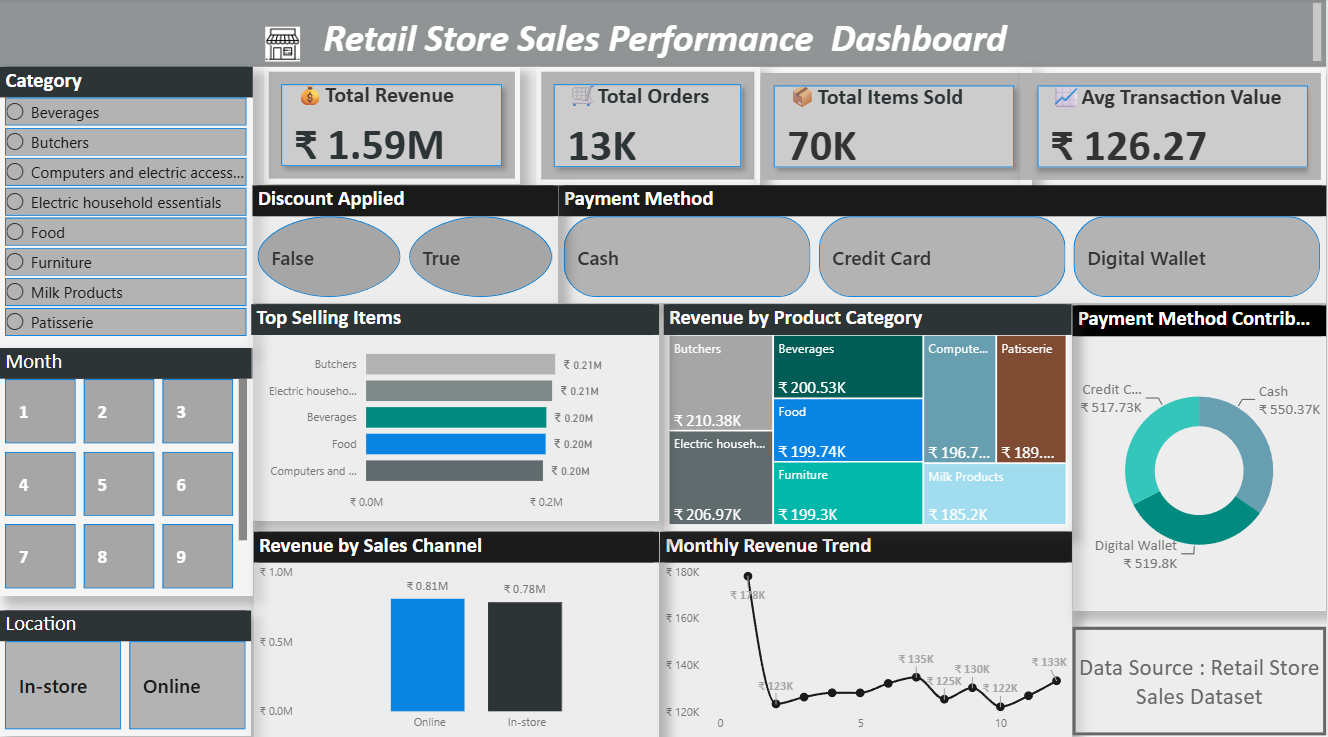

The dashboard page shown, as its layout file describes it:
{"tool":"powerbi","page":{"name":"Page 1","canvas":[1280,720],"ordinal":0},"visuals":[{"type":"cardVisual","fields":{"Data":["Cleaned Retail_Store_sales.Total Revenue"]},"box":[254.6,66.4,247.3,113.4],"z":0},{"type":"cardVisual","fields":{"Data":["Cleaned Retail_Store_sales.Total Orders"]},"box":[517.6,66.4,216,114.6],"z":1000},{"type":"cardVisual","fields":{"Data":["Cleaned Retail_Store_sales.Total Items Sold"]},"box":[729.9,67.6,266.6,113.4],"z":2000},{"type":"cardVisual","fields":{"Data":["Cleaned Retail_Store_sales.Average Transaction Value"]},"box":[984.5,67.6,295.6,113.4],"z":3000},{"type":"listSlicer","fields":{"Values":["Cleaned Retail_Store_sales.Category"]},"box":[0,66.4,243.7,271.4],"z":4000},{"type":"advancedSlicerVisual","fields":{"Values":["Cleaned Retail_Store_sales.Location"]},"box":[0,591.2,242.5,120.6],"z":5000},{"type":"advancedSlicerVisual","fields":{"Values":["Cleaned Retail_Store_sales.Month"]},"box":[0,337.8,243.7,238.9],"z":6000},{"type":"advancedSlicerVisual","fields":{"Values":["Cleaned Retail_Store_sales.Payment Method"]},"box":[539.3,181,740.8,113.4],"z":7000},{"type":"advancedSlicerVisual","fields":{"Values":["Cleaned Retail_Store_sales.Discount Applied"]},"box":[243.7,181,295.6,113.4],"z":8000},{"type":"textbox","box":[0,0,1280,66.4],"z":9000},{"type":"lineChart","title":"Monthly Revenue Trend","fields":{"Category":["Cleaned Retail_Store_sales.Month"],"Y":["Cleaned Retail_Store_sales.Total Revenue"]},"box":[636.7,514.6,397.9,201.7],"z":10000},{"type":"donutChart","title":"Payment Method Contribution","fields":{"Y":["Cleaned Retail_Store_sales.Total Revenue"],"Category":["Cleaned Retail_Store_sales.Payment Method"]},"box":[1035.1,296.8,244.9,294.4],"z":11000},{"type":"clusteredColumnChart","title":"Revenue by Sales Channel","fields":{"Category":["Cleaned Retail_Store_sales.Location"],"Y":["Cleaned Retail_Store_sales.Total Revenue"]},"box":[244.9,515.2,390.9,201.5],"z":12000},{"type":"treemap","title":"Revenue by Product Category","fields":{"Group":["Cleaned Retail_Store_sales.Category"],"Values":["Cleaned Retail_Store_sales.Total Revenue"]},"box":[640.8,295,393.8,218.2],"z":13000},{"type":"clusteredBarChart","title":"Top Selling Items","fields":{"Y":["Cleaned Retail_Store_sales.💰Total Revenue"],"Category":["Cleaned Retail_Store_sales.Category"]},"box":[242.5,295.6,393.3,208.7],"z":14000},{"type":"actionButton","box":[1035.1,606.8,244.9,105],"z":15000},{"type":"image","box":[232.8,22.9,79.6,43.4],"z":18000}]}

Visuals, with their boxes in screenshot pixels (x1, y1, x2, y2), scaled from the page's 1280x720 canvas onto the 1328x737 screenshot:
cardVisual - Cleaned Retail_Store_sales.Total Revenue: 264, 68, 521, 184
cardVisual - Cleaned Retail_Store_sales.Total Orders: 537, 68, 761, 185
cardVisual - Cleaned Retail_Store_sales.Total Items Sold: 757, 69, 1034, 185
cardVisual - Cleaned Retail_Store_sales.Average Transaction Value: 1021, 69, 1327, 185
listSlicer - Cleaned Retail_Store_sales.Category: 0, 68, 253, 346
advancedSlicerVisual - Cleaned Retail_Store_sales.Location: 0, 605, 252, 729
advancedSlicerVisual - Cleaned Retail_Store_sales.Month: 0, 346, 253, 590
advancedSlicerVisual - Cleaned Retail_Store_sales.Payment Method: 560, 185, 1327, 301
advancedSlicerVisual - Cleaned Retail_Store_sales.Discount Applied: 253, 185, 560, 301
textbox: 0, 0, 1327, 68
"Monthly Revenue Trend" lineChart: 661, 527, 1073, 733
"Payment Method Contribution" donutChart: 1074, 304, 1327, 605
"Revenue by Sales Channel" clusteredColumnChart: 254, 527, 660, 734
"Revenue by Product Category" treemap: 665, 302, 1073, 525
"Top Selling Items" clusteredBarChart: 252, 303, 660, 516
actionButton: 1074, 621, 1327, 729
image: 242, 23, 324, 68
